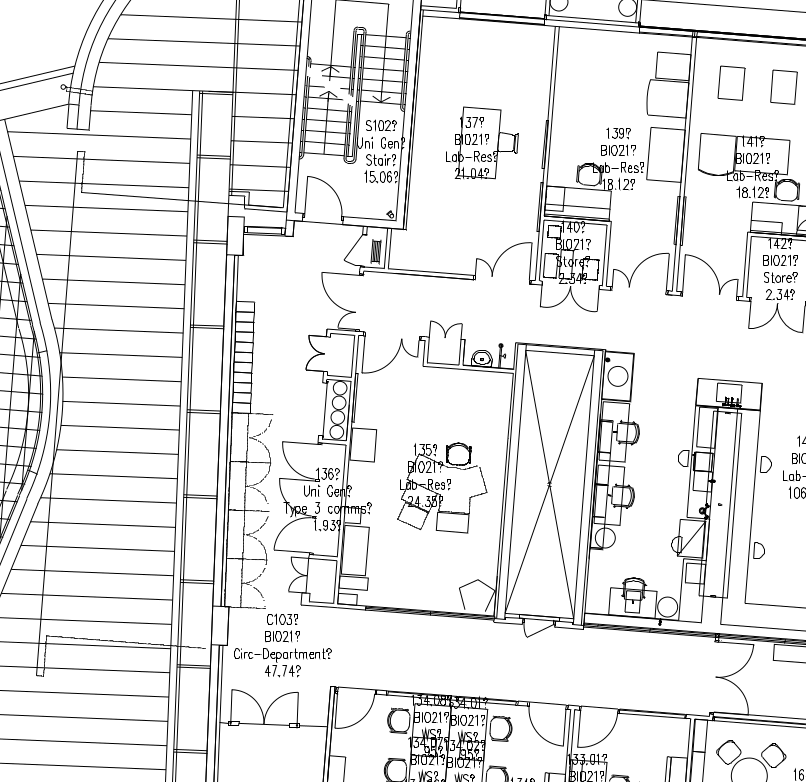door: (270, 477, 322, 555), (225, 686, 304, 733), (711, 640, 758, 718), (469, 233, 532, 284), (314, 267, 363, 332), (680, 248, 740, 300), (746, 294, 806, 346), (358, 328, 421, 376), (607, 249, 672, 294), (536, 277, 602, 320), (333, 685, 379, 733), (522, 702, 568, 750), (576, 704, 622, 752), (303, 173, 345, 223), (279, 437, 323, 481), (424, 305, 465, 341), (280, 554, 310, 596), (514, 617, 558, 643)
